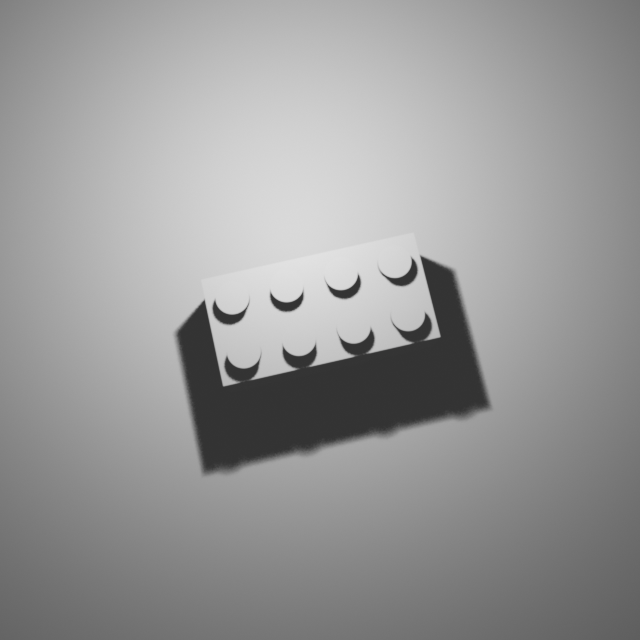lego_2x4: (200, 229, 442, 393)
